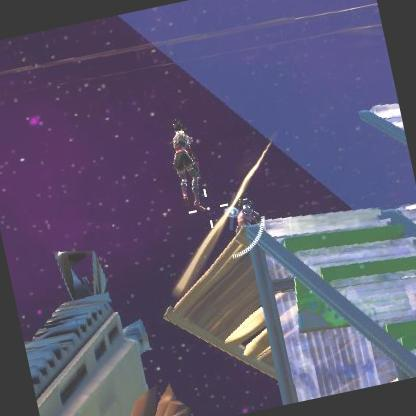person: (166, 122, 210, 212), (234, 198, 260, 230)
